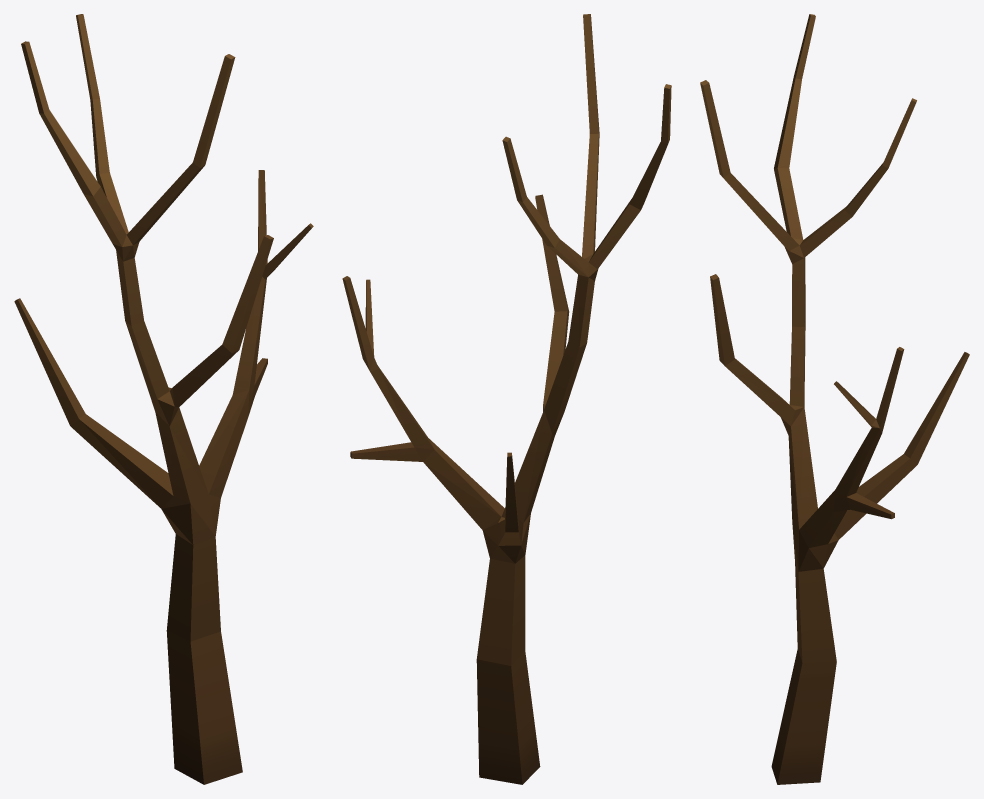
File: Tree_05.fbx
The picture shows the model from 3 angles, left to right: view 1: azimuth 30°, elevation 25°; view 2: azimuth 150°, elevation 25°; view 3: azimuth 270°, elevation 25°; orthographic projection. The views are drawn at different scales.
Visible parts, largest first — view 1: Tree_05; view 2: Tree_05; view 3: Tree_05.
Part boxes in pixels (x1,y1,x2,y2): Tree_05: (14, 14, 313, 784); Tree_05: (342, 14, 671, 784); Tree_05: (700, 14, 969, 784).
Bounding box in the file's own units: 76.86 × 184 × 65.9.
